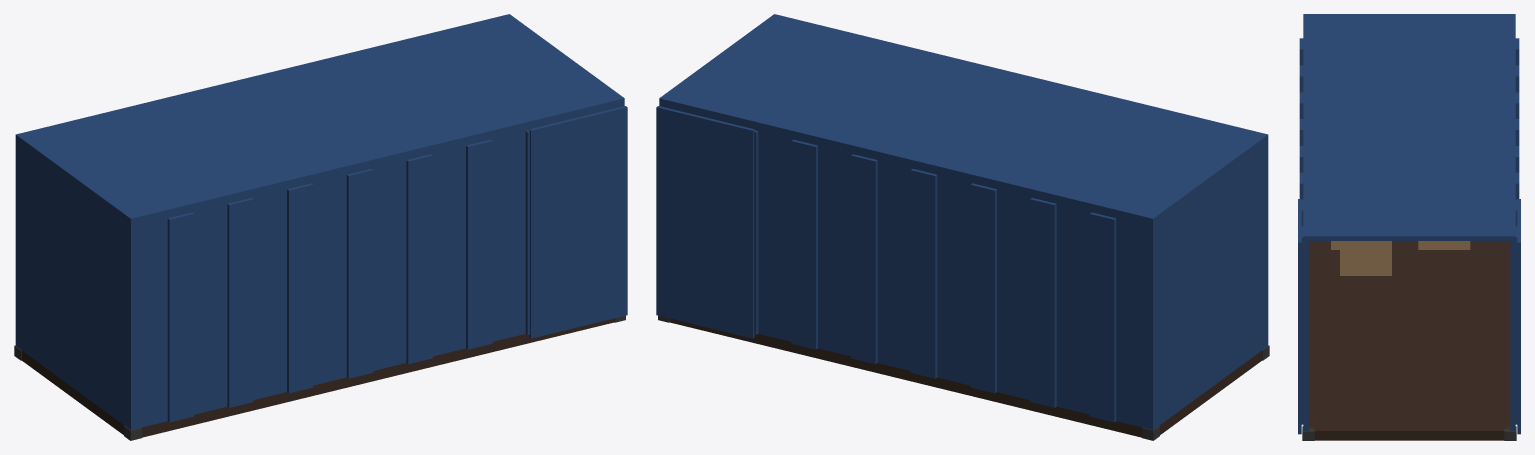
Rendered from container_open.glb.
3 renders of one model, left to right at view 1: azimuth 30°, elevation 25°; view 2: azimuth 150°, elevation 25°; view 3: azimuth 270°, elevation 25°, orthographic. The views are drawn at different scales.
Visible parts, largest first — view 1: container_open; view 2: container_open; view 3: container_open.
Boxes of the visible parts, x1,y1,x2,y2 form: container_open: (14,14,627,440); container_open: (656,14,1269,440); container_open: (1298,14,1520,440).
Bounding box in the file's own units: 6.06 × 2.59 × 2.56.
1 material, 1 textured.
